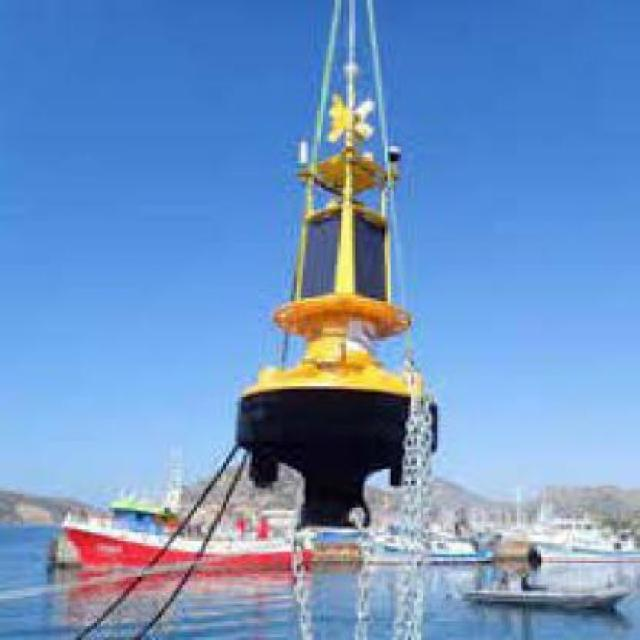buoy: (224, 68, 447, 445)
